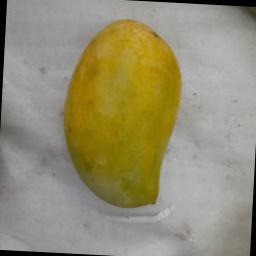Mango Unripe: (27, 0, 256, 251)
